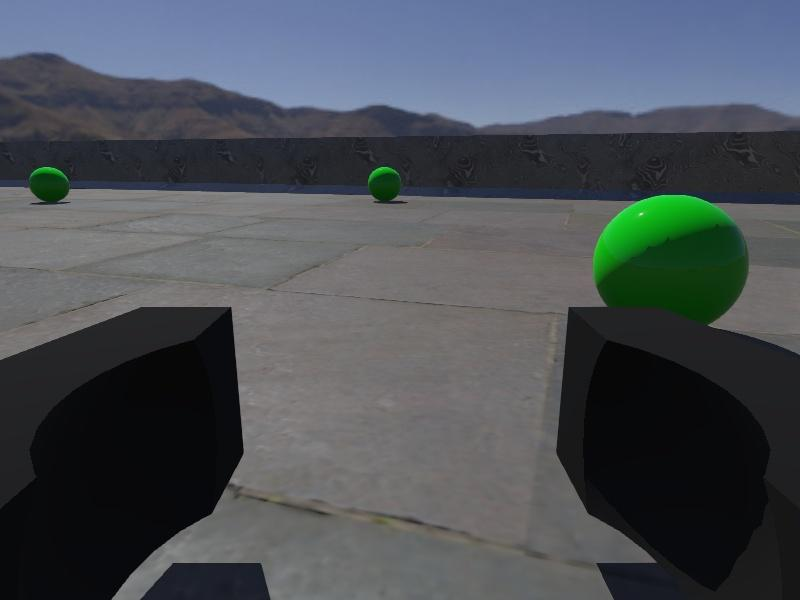green ball: (28, 165, 71, 202), (367, 165, 402, 202)
